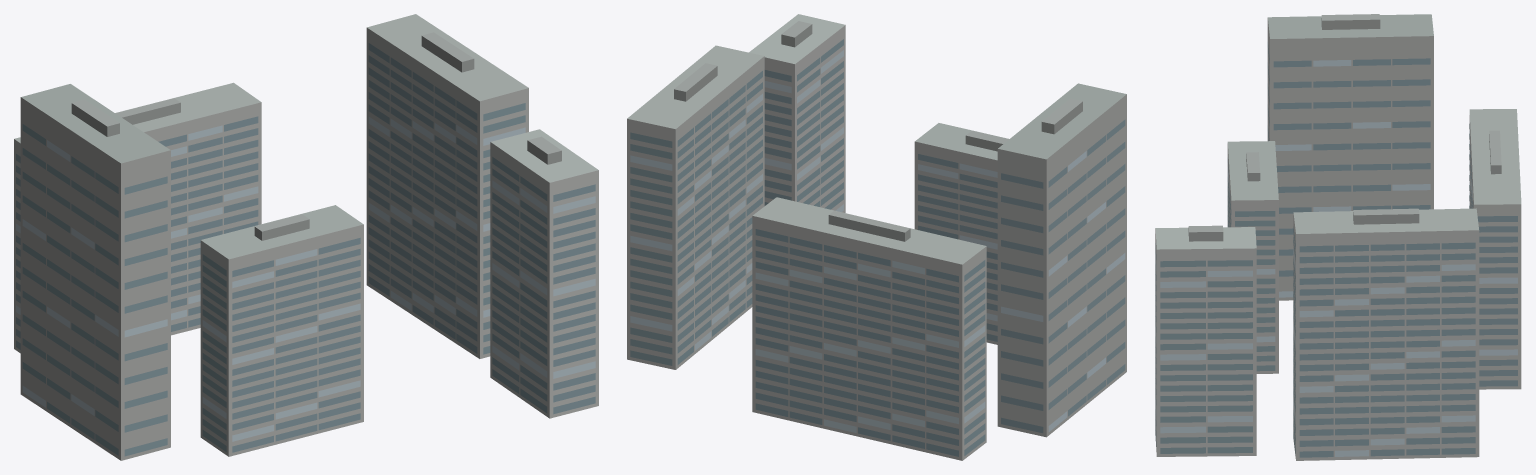
The model's file is apt-a13486504.glb.
3 renders of one model, left to right at view 1: azimuth 30°, elevation 25°; view 2: azimuth 150°, elevation 25°; view 3: azimuth 270°, elevation 25°, orthographic. The views are drawn at different scales.
Visible parts, largest first — view 1: apt-a13486504; view 2: apt-a13486504; view 3: apt-a13486504.
Part boxes in pixels (<box>): apt-a13486504: <box>14,14,598,460</box>; apt-a13486504: <box>627,14,1126,460</box>; apt-a13486504: <box>1155,14,1521,460</box>.
Bounding box in the file's own units: 103 × 70 × 85.73.
